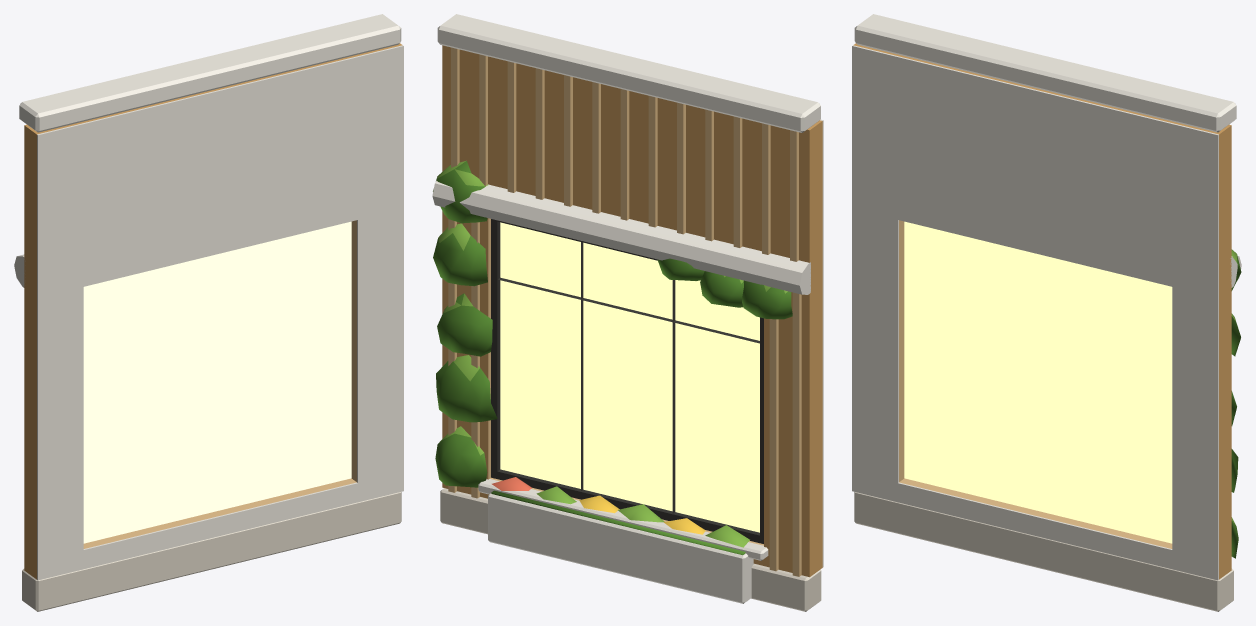
The model's file is hall_window_wall.glb.
3 renders of one model, left to right at view 1: azimuth 30°, elevation 25°; view 2: azimuth 150°, elevation 25°; view 3: azimuth 330°, elevation 25°, orthographic.
Parts seen in each view (by area): view 1: wall; view 2: wall; view 3: wall.
Boxes of the visible parts, bbox=[...] form: wall: bbox=[14, 14, 403, 611]; wall: bbox=[432, 14, 823, 611]; wall: bbox=[852, 14, 1241, 611].
Size of the model in its own units: 4.06 by 5.2 by 0.4779.
